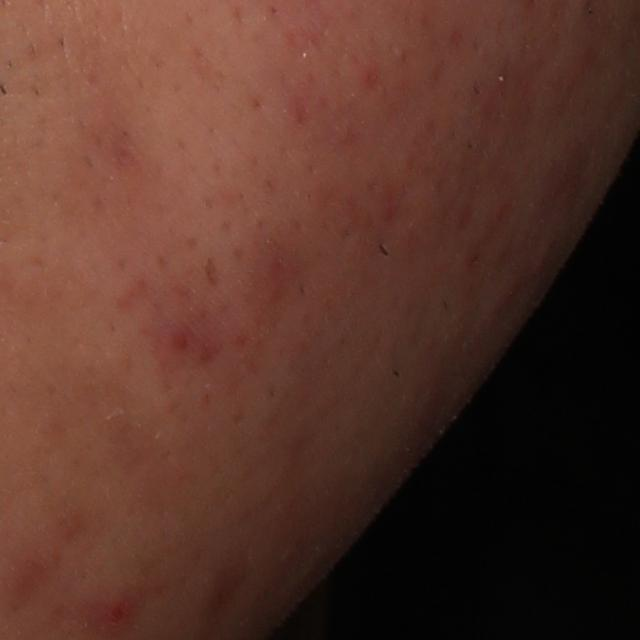papule: (90, 594, 134, 635)
